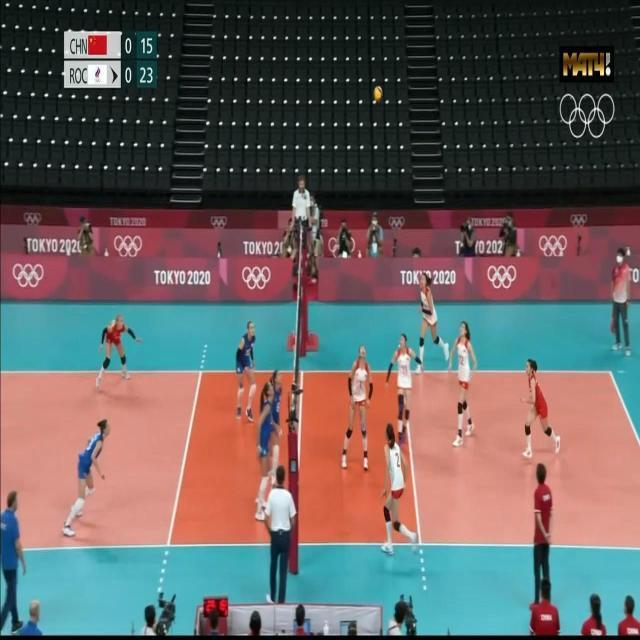volleyball: (374, 86, 384, 100)
